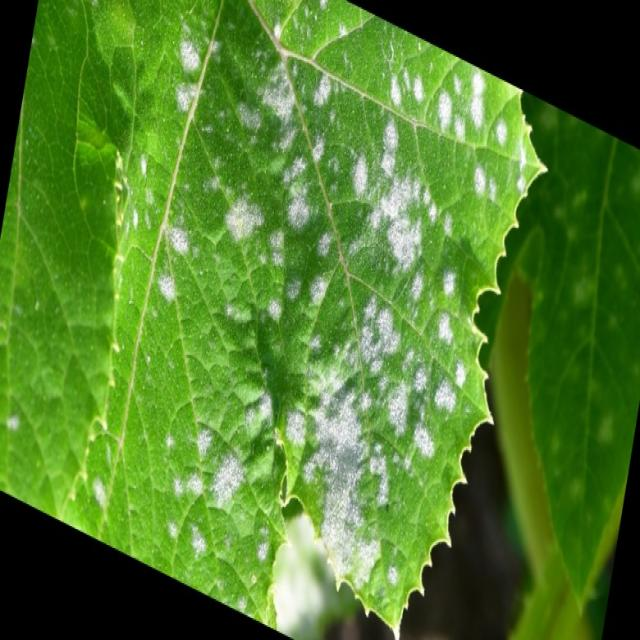Powdery Mildew: (126, 106, 498, 530)
